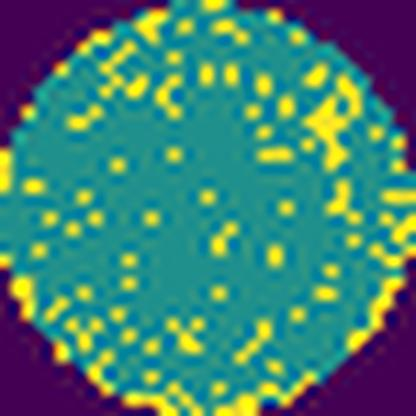Loc: (303, 75, 364, 174)
